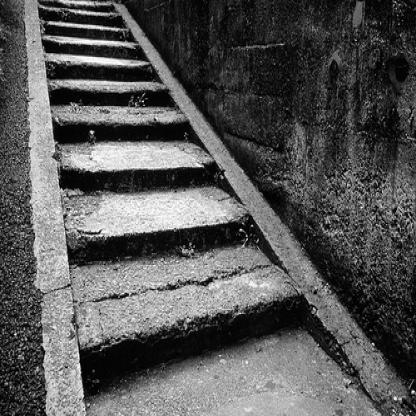stairs: (69, 152, 258, 400)
